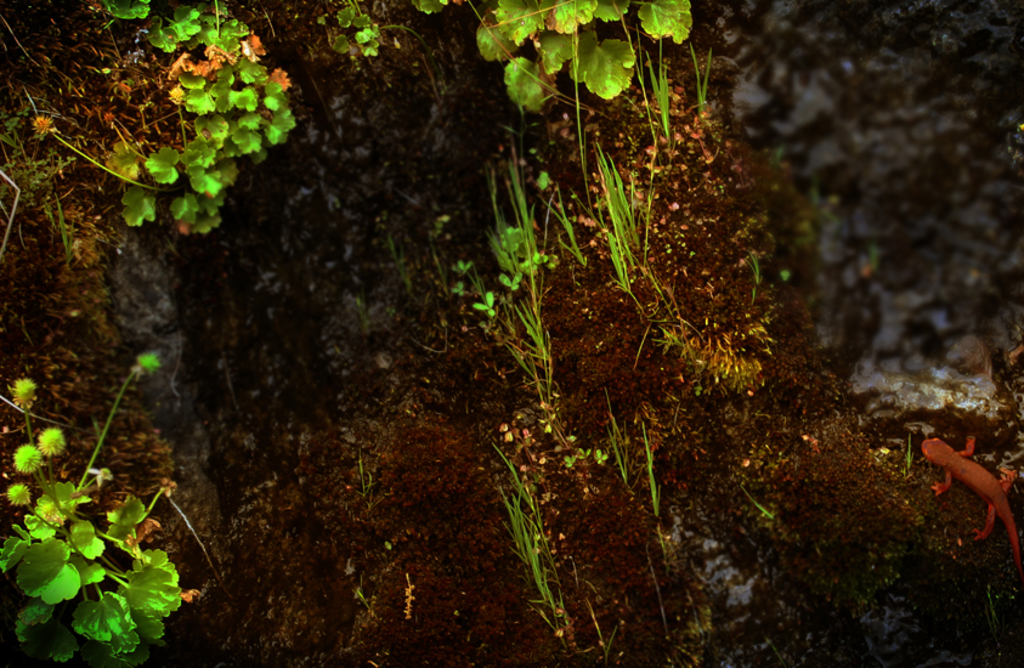Animal: (915, 437, 1020, 563)
